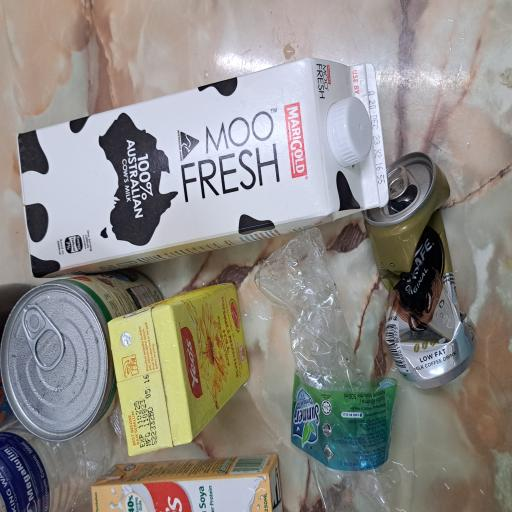can: (51, 0, 180, 217)
drink carton: (173, 22, 341, 512), (40, 145, 174, 335), (0, 120, 43, 378)
plastic bottle: (0, 340, 214, 512), (0, 0, 68, 152)
plastic bottle cap: (259, 438, 312, 496)
pop tab: (106, 28, 157, 85)
